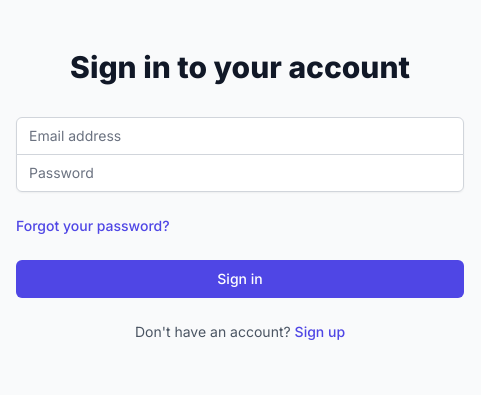
Test: SignIn Page › Form submission › displays generic error message when signin throws exception
Step 1. Type "test@example.com" into the field labelled "Email address" → (240, 136), box [16, 116, 464, 154]
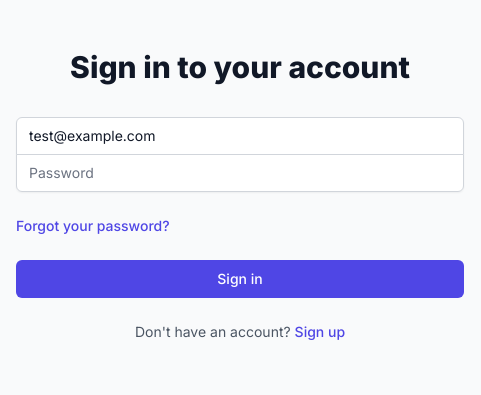
Step 2. Type "password123" into the password field labelled "Password" → (240, 172), box [16, 154, 464, 192]
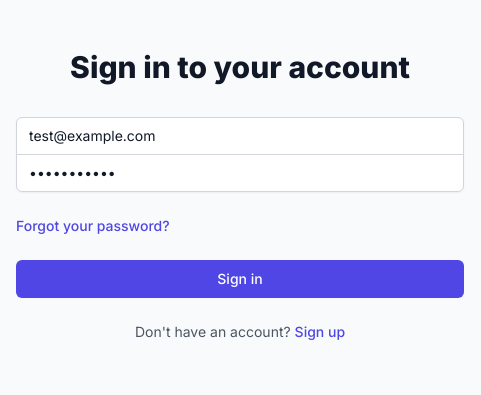
Step 3. Click the button "Sign in" → (240, 278), box [16, 260, 464, 298]
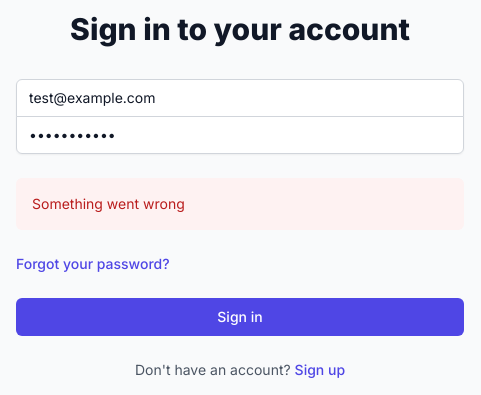
Check: the text "Something went wrong" is shown, box [32, 194, 185, 212]
